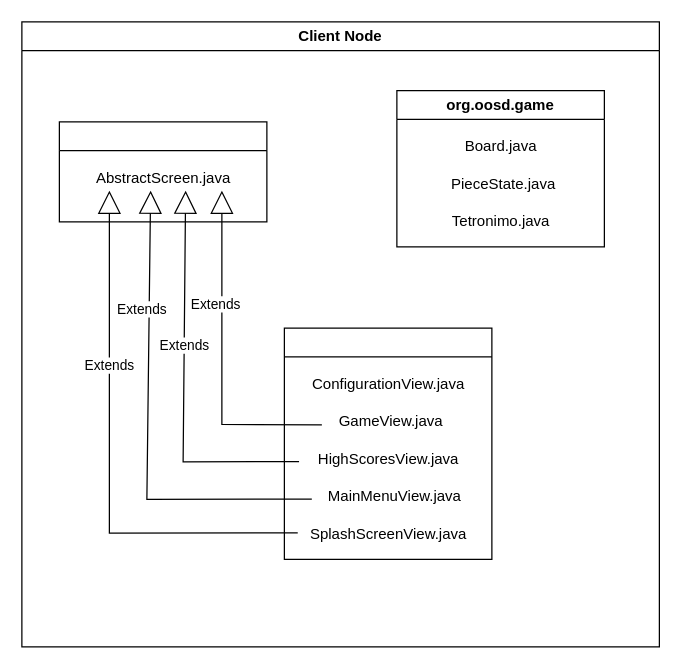
This 681x669 diagram has some shape labels left out. Here are the shapes that lost their labels. From the top down, the box of each, then its label:
(58, 121, 267, 222): org.oosd.core
(283, 327, 492, 559): org.oosd.ui
